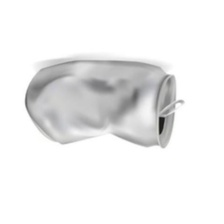can: (20, 54, 191, 154)
